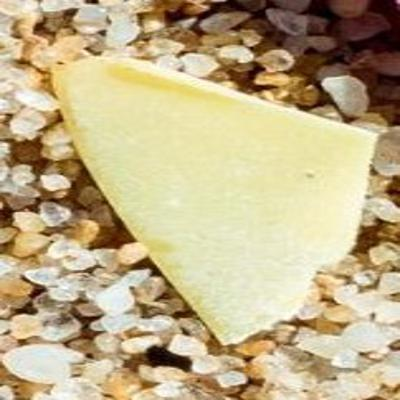plastic: (46, 40, 385, 364)
